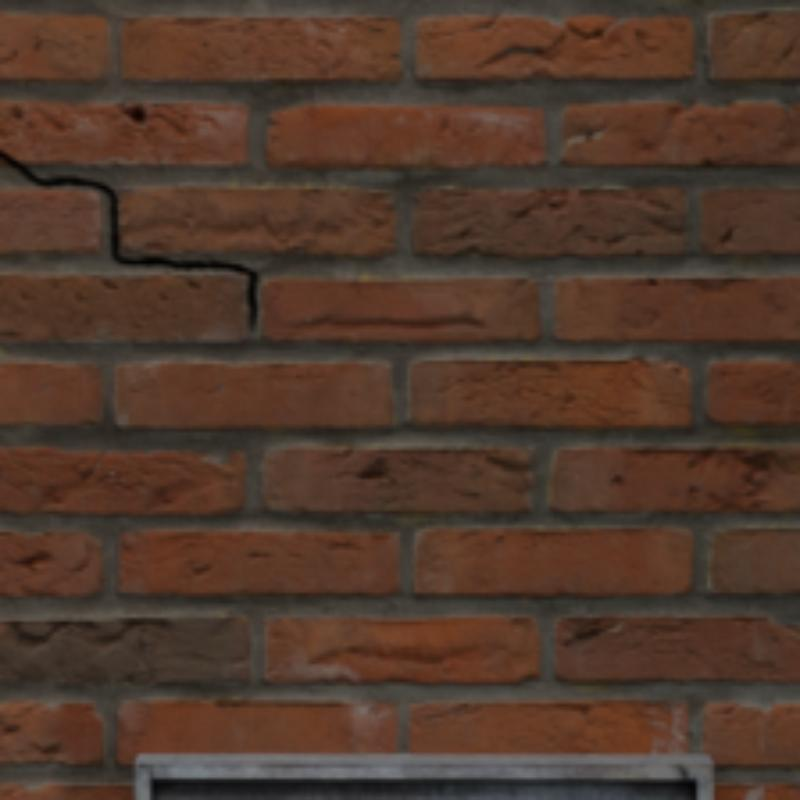crack: (0, 150, 254, 329)
